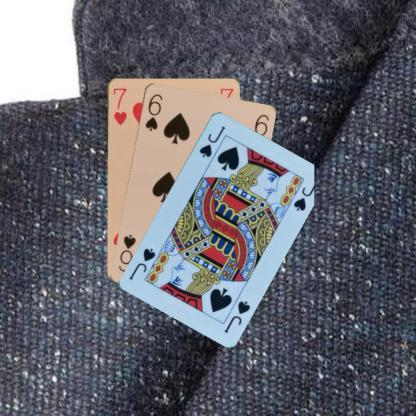6s: (142, 90, 164, 132)
7h: (110, 84, 128, 126)
Js: (196, 123, 228, 158), (222, 298, 252, 334)
